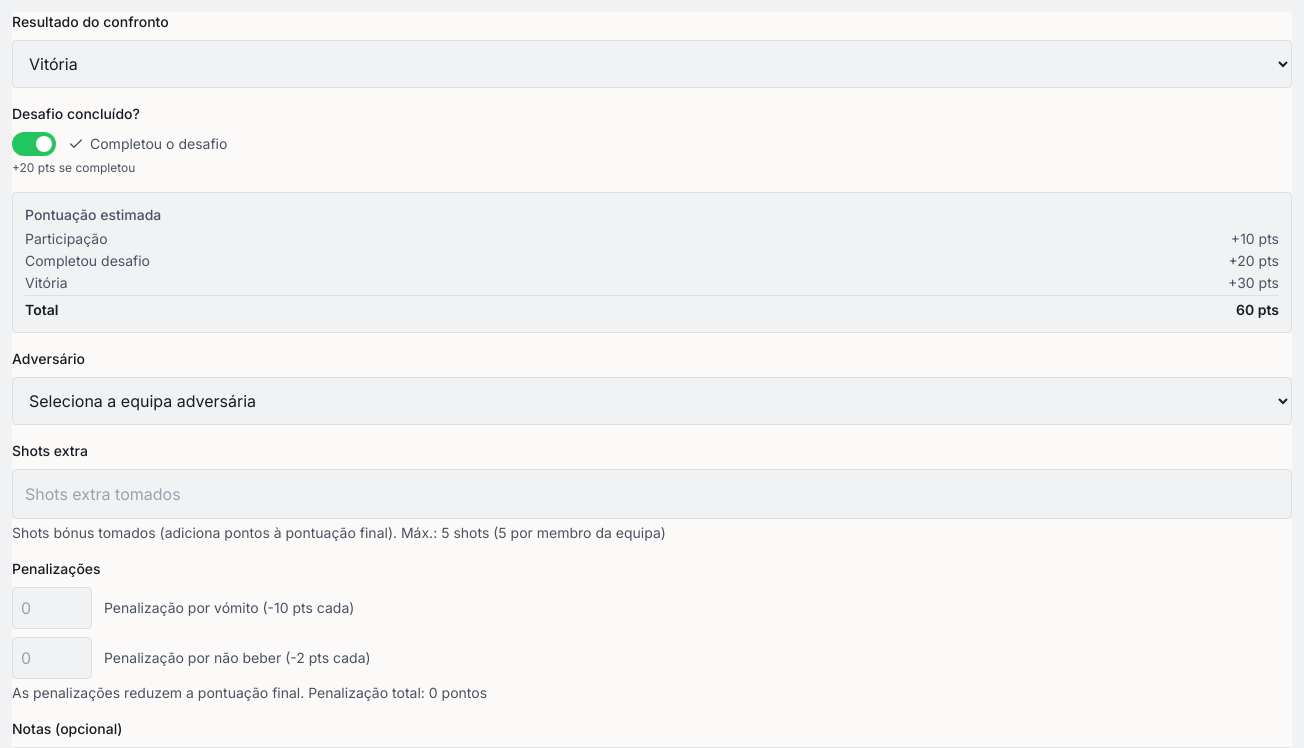
Test: TeamVsForm › updates score based on result selection
This screenshot has width=1304, height=748.
Expected: the text "60 pts" is shown, [1236, 300, 1279, 320]
# Change to Draw
Select "Empate" in the dropdown with test id "select-result" at (652, 64), box [12, 40, 1292, 88]
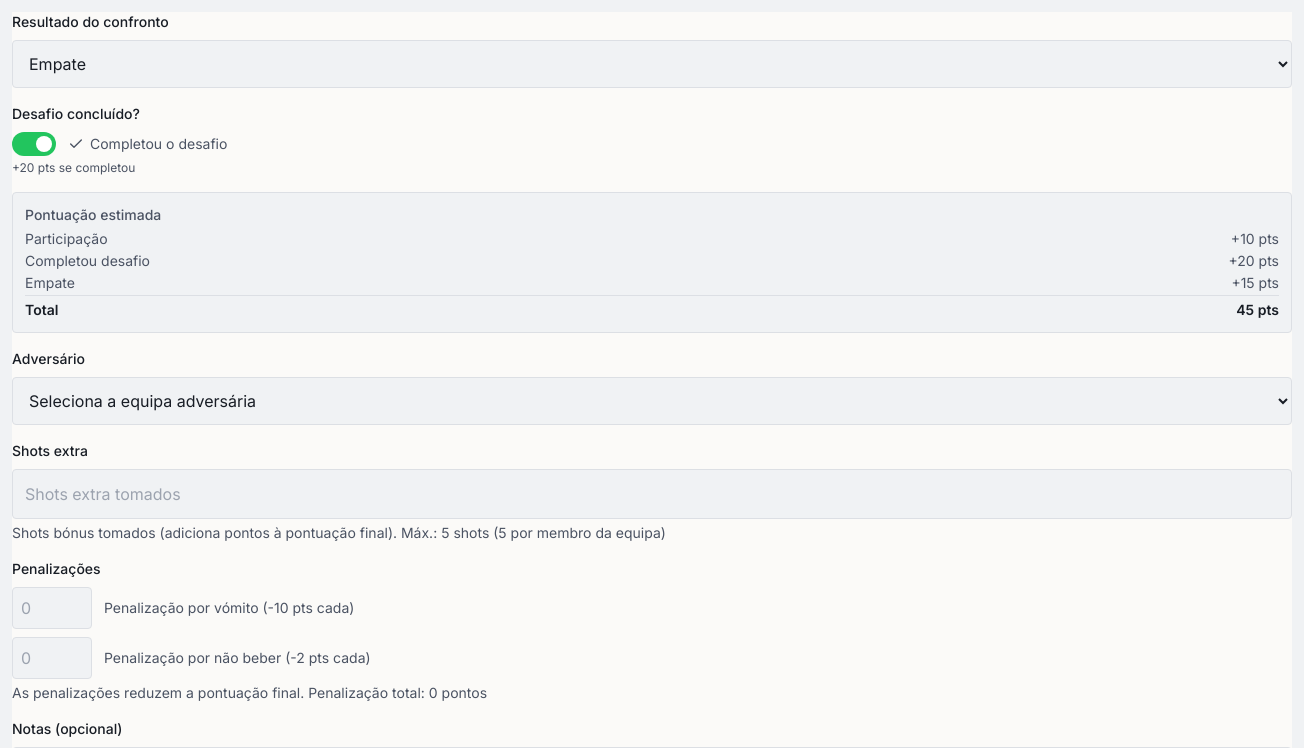
Result: the text "45 pts" is shown at [1236, 300, 1279, 320]
# Change to Lose
Select "Derrota" in the dropdown with test id "select-result" at (652, 64), box [12, 40, 1292, 88]
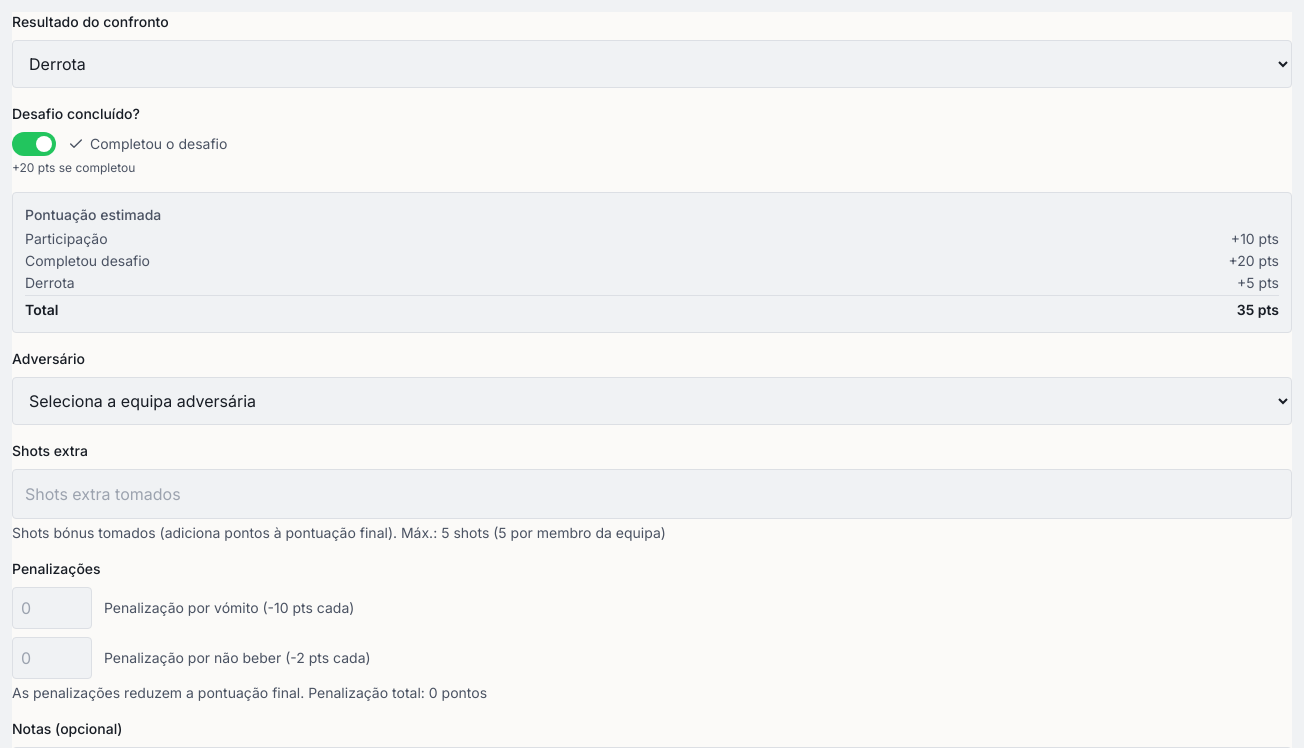
Result: the text "35 pts" is shown at [1237, 300, 1279, 320]
